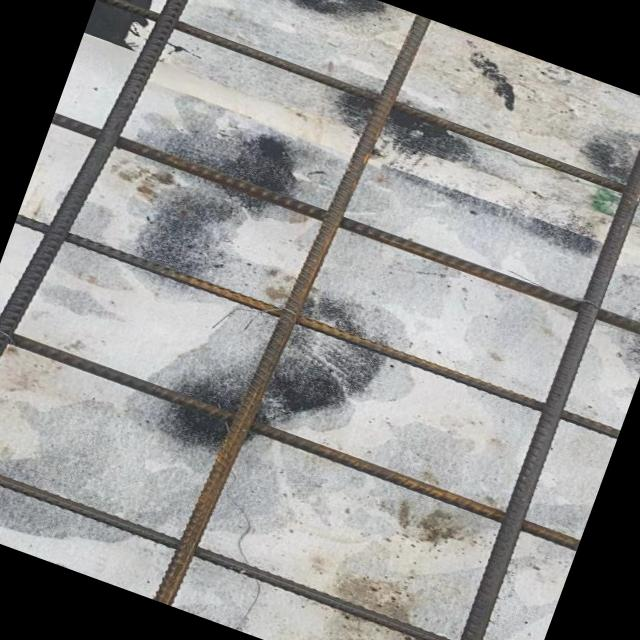ribbed bar: (153, 0, 432, 620), (16, 210, 620, 442), (51, 109, 640, 343), (0, 320, 580, 551), (96, 0, 640, 221), (0, 0, 220, 543), (434, 101, 640, 640), (0, 454, 534, 640)
